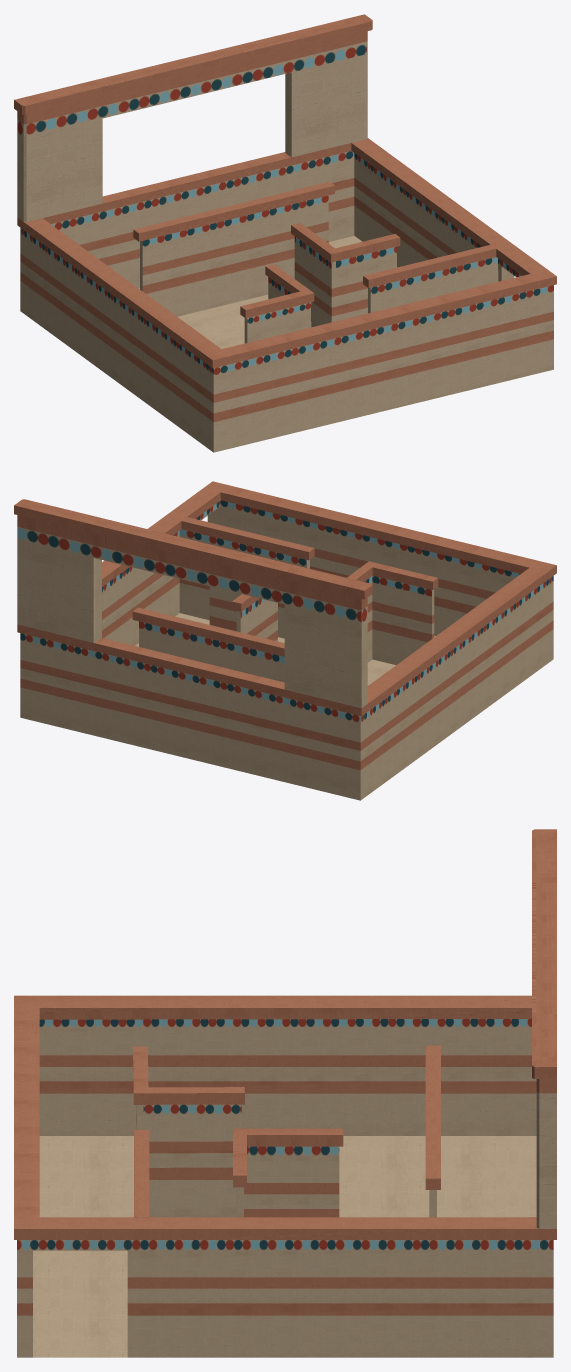
File: mdl_krank_maze.gltf
The picture shows the model from 3 angles, top to bottom: view 1: azimuth 30°, elevation 25°; view 2: azimuth 150°, elevation 25°; view 3: azimuth 270°, elevation 25°; orthographic projection. The views are drawn at different scales.
Visible parts, largest first — view 1: Cube; view 2: Cube; view 3: Cube.
Boxes of the visible parts, left/top/right/bottom form: Cube: left=14, top=14, right=556, bottom=452; Cube: left=14, top=481, right=556, bottom=800; Cube: left=14, top=829, right=556, bottom=1357.
Size of the model in its own units: 1.25 by 0.7217 by 1.21.
Materials: 3 (3 with a texture image).
